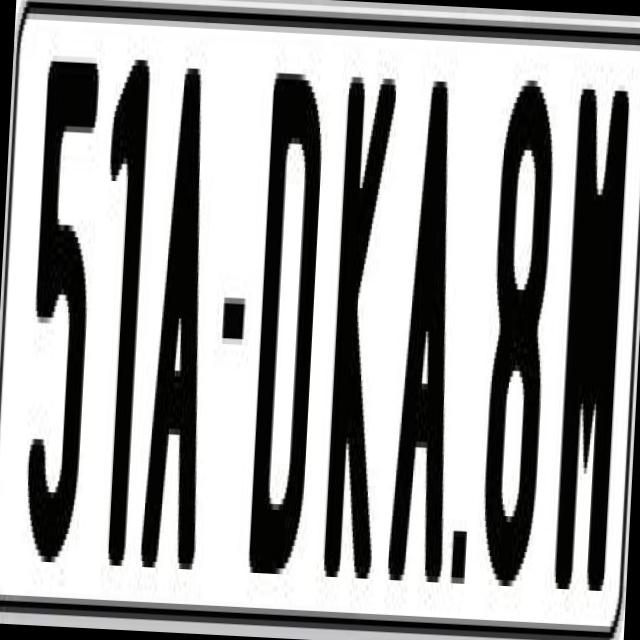1: (89, 53, 154, 560)
5: (20, 61, 100, 575)
8: (478, 68, 562, 610)
A: (386, 69, 474, 606), (136, 49, 223, 564)
D: (246, 61, 330, 593)
K: (321, 59, 402, 585)
M: (552, 83, 636, 603)
